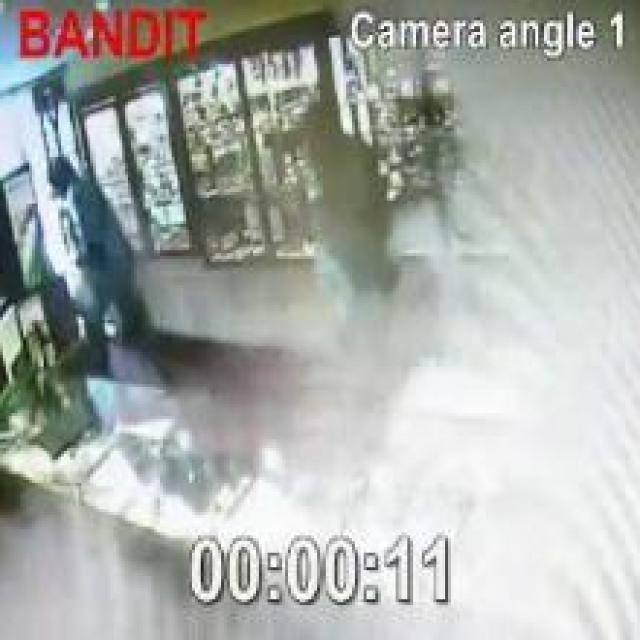fire: (422, 35, 640, 576)
